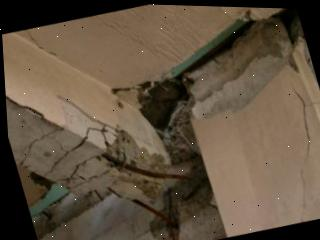spalling: (95, 128, 214, 240)
